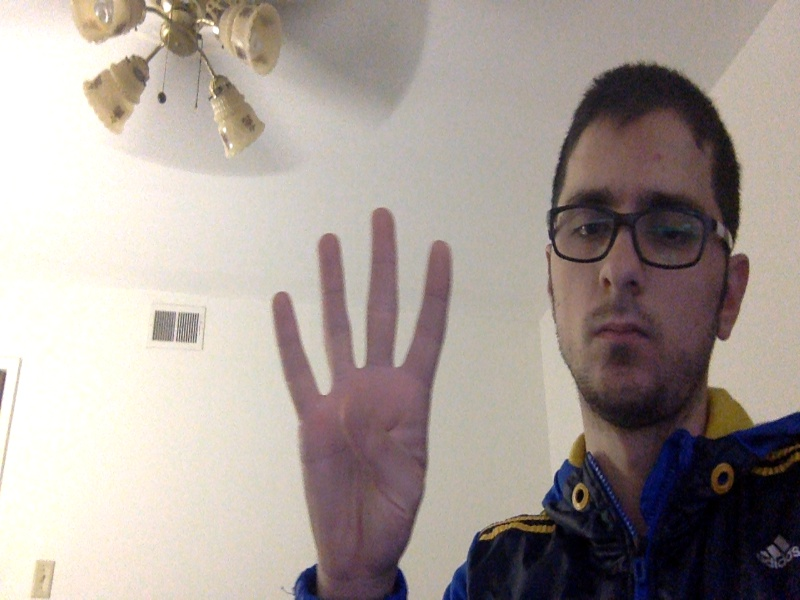4-hand: (271, 209, 450, 584)
